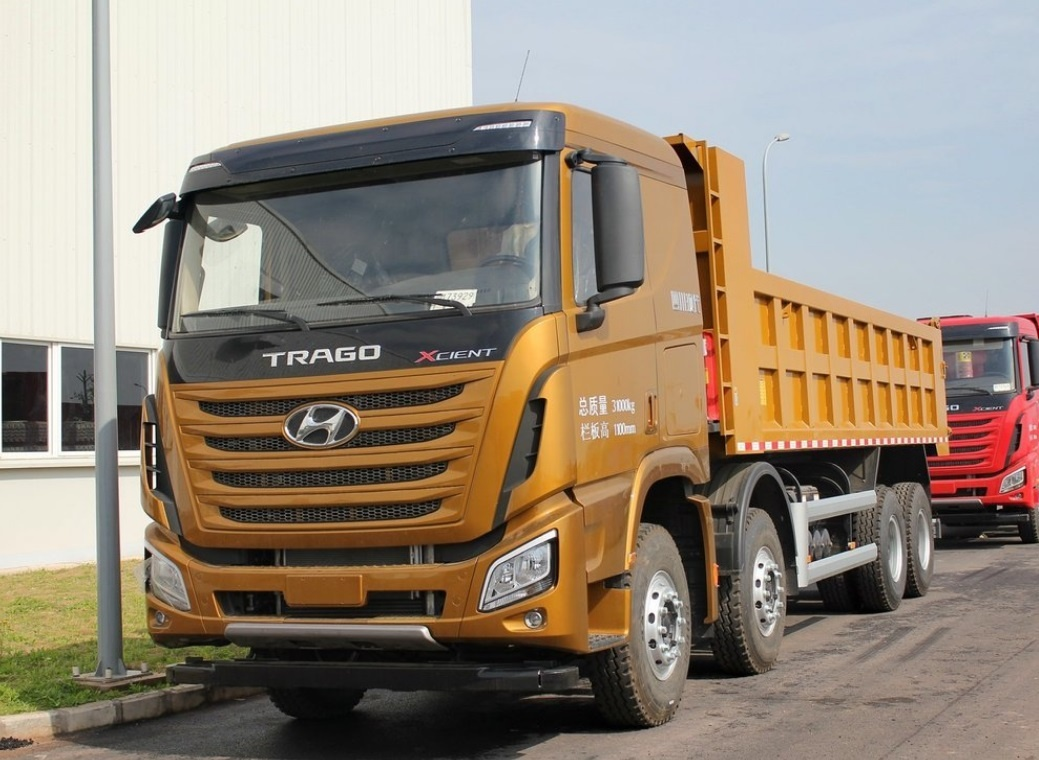heavy truck: (130, 98, 960, 698)
